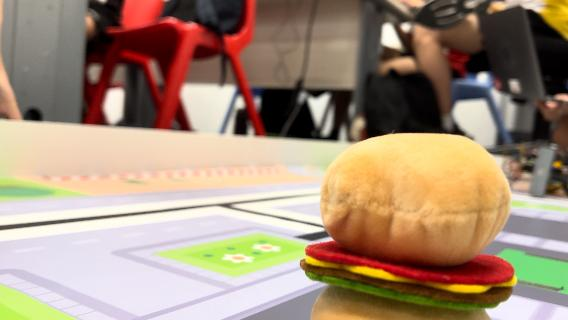burger: (299, 128, 521, 320)
